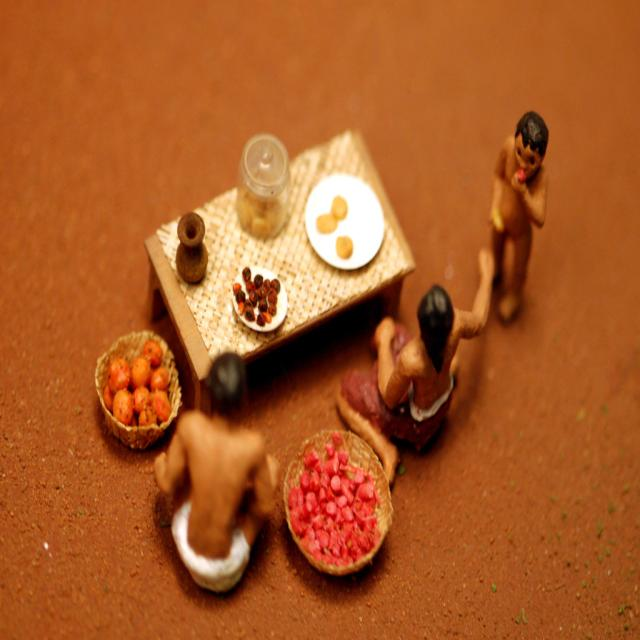Toy: (336, 247, 496, 483), (152, 352, 284, 597), (488, 108, 549, 324)
